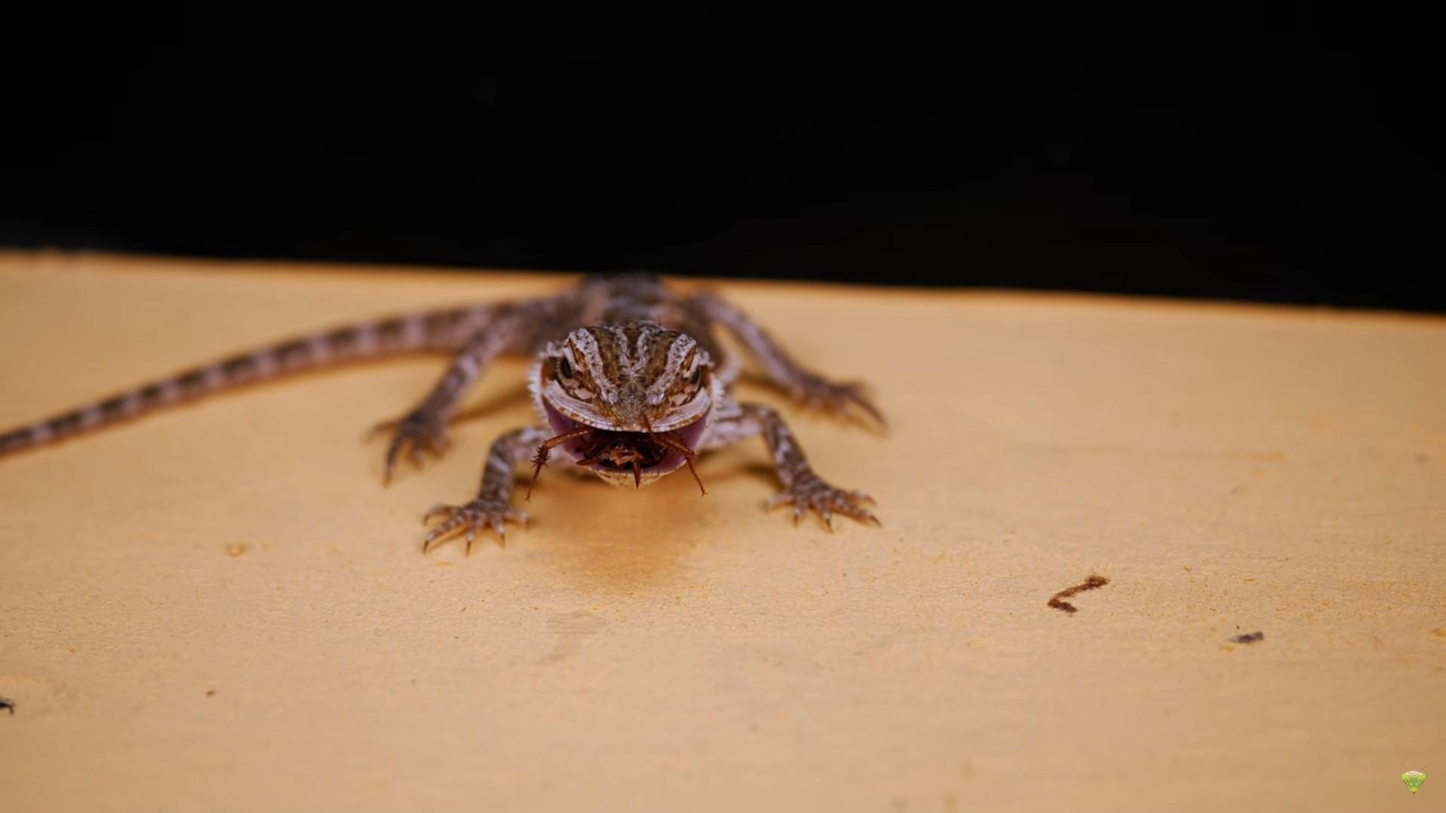cockroach: (527, 411, 708, 512)
lizard: (374, 298, 893, 565)
